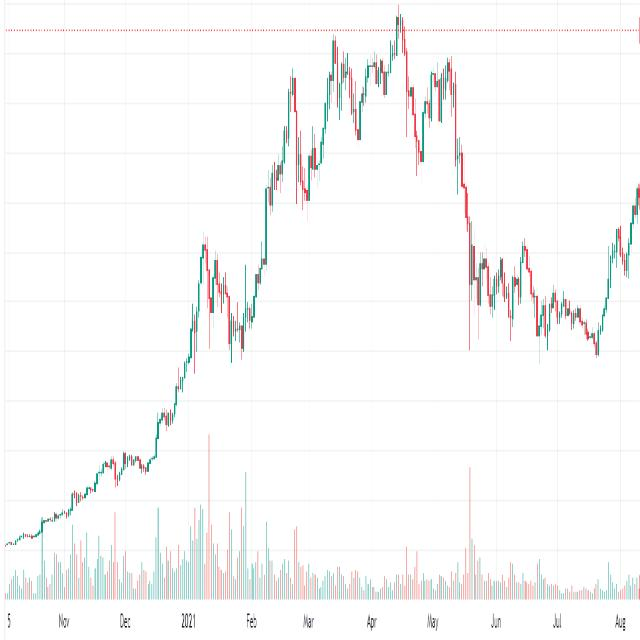Rounding-Top: (249, 4, 478, 345)
